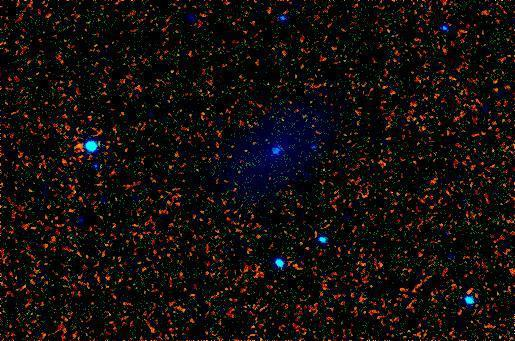star: (63, 130, 93, 160)
